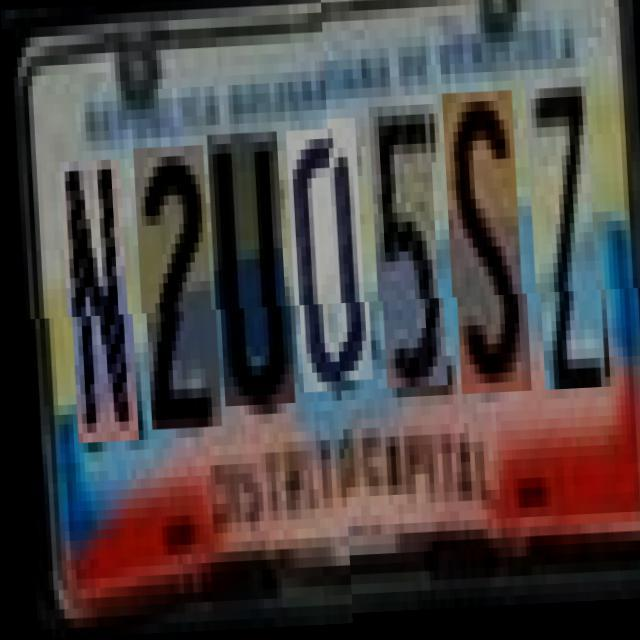0: (289, 131, 369, 396)
2: (136, 148, 217, 432)
5: (372, 119, 444, 402)
N: (62, 160, 134, 444)
S: (446, 105, 528, 408)
U: (210, 134, 291, 408)
Z: (528, 92, 602, 406)
